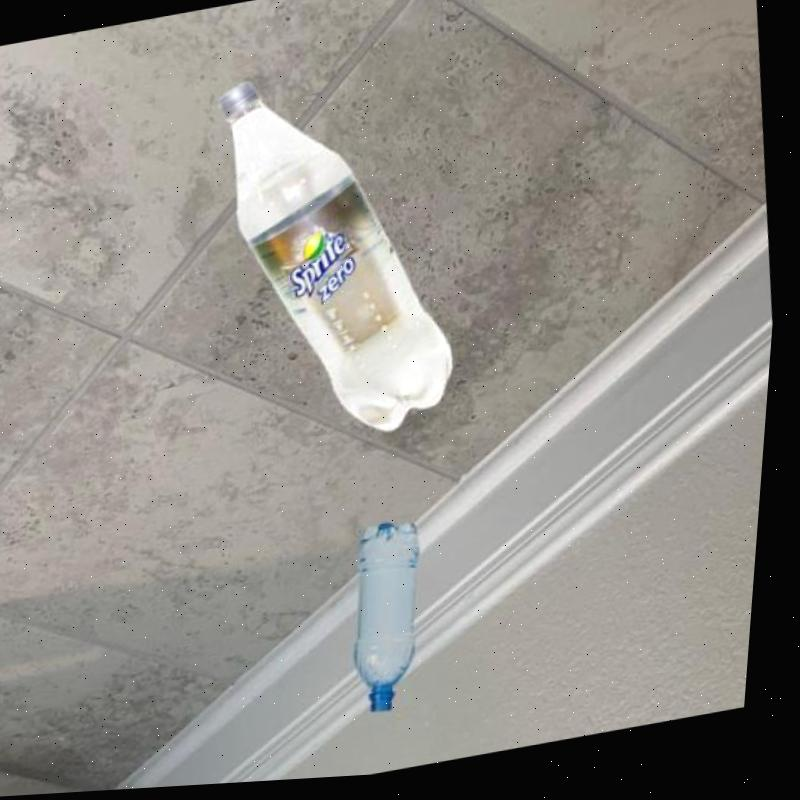botella: (196, 51, 489, 464), (342, 515, 448, 726)
